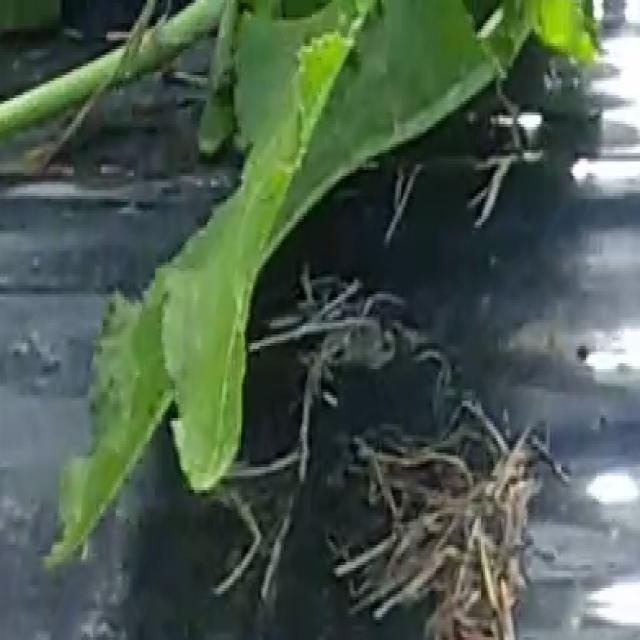organic waste: (36, 0, 444, 574)
